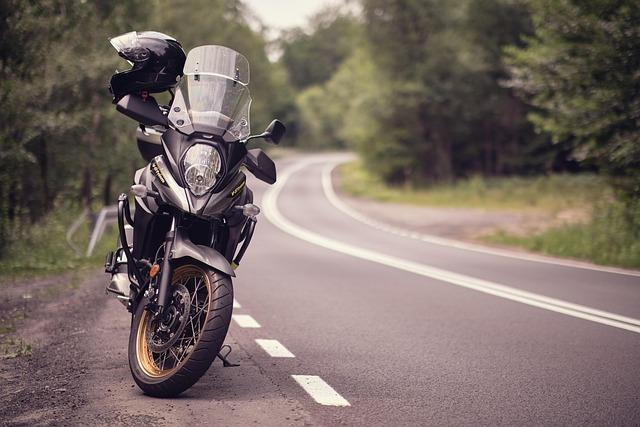Non_Gorille: (42, 0, 621, 406)
